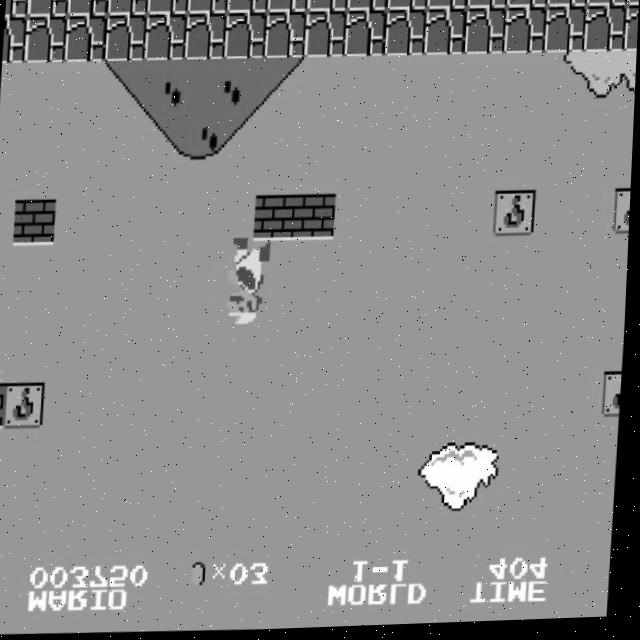1- brick_block: (14, 198, 58, 246), (254, 196, 298, 244), (294, 195, 338, 243), (0, 382, 8, 428)
13- mystery_block: (494, 193, 538, 241), (5, 382, 49, 429), (605, 376, 625, 422), (614, 192, 633, 239)
17- undestructible_block: (184, 13, 228, 62), (424, 10, 468, 59), (544, 9, 588, 58), (24, 15, 68, 63), (64, 15, 108, 63), (104, 14, 148, 62), (144, 14, 188, 62), (224, 13, 268, 61), (264, 13, 308, 61), (304, 12, 348, 60), (344, 12, 388, 60), (384, 11, 428, 59), (464, 10, 508, 58), (504, 10, 548, 58), (583, 9, 627, 57), (2, 16, 27, 63), (623, 9, 639, 56), (26, 0, 68, 17), (66, 0, 108, 17), (106, 0, 148, 17), (146, 0, 188, 17), (186, 0, 228, 16), (226, 0, 268, 15), (266, 0, 308, 15), (306, 0, 348, 14), (347, 0, 388, 14), (387, 0, 428, 14), (427, 0, 468, 13), (467, 0, 508, 13), (507, 0, 548, 12), (547, 0, 588, 12), (587, 0, 628, 11), (4, 0, 27, 17), (626, 0, 640, 10)
4- fire_mario: (225, 239, 273, 335)
